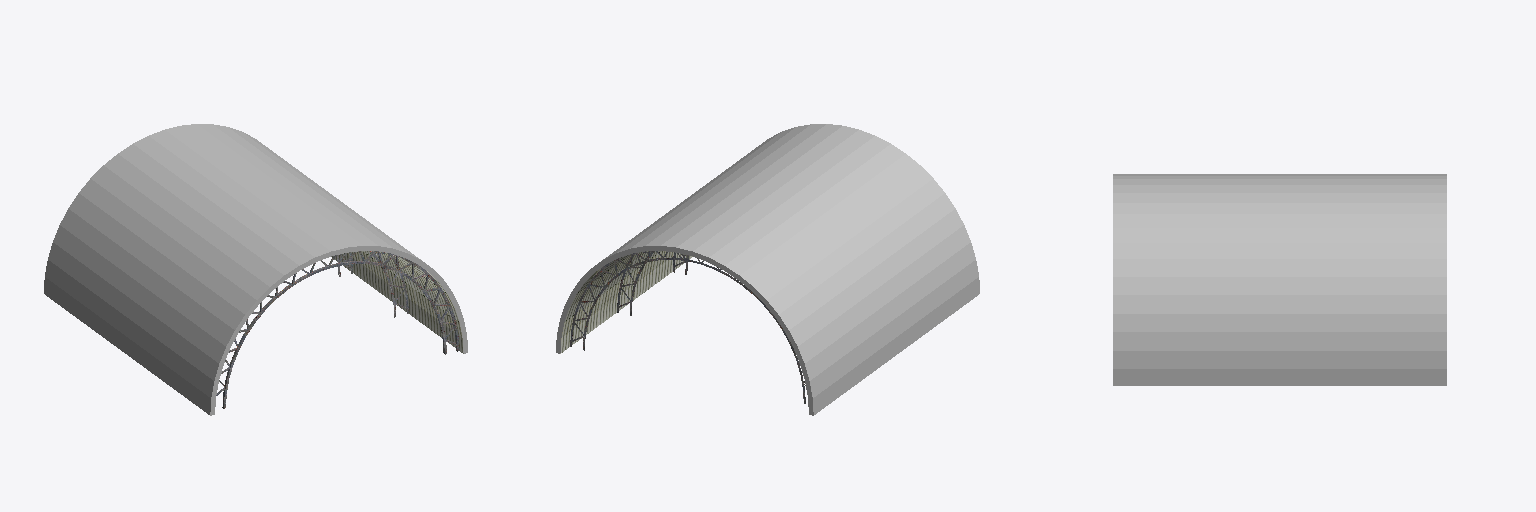
3 views of the same model, side by side, from view 1: azimuth 30°, elevation 25°; view 2: azimuth 150°, elevation 25°; view 3: azimuth 270°, elevation 25° (orthographic).
Parts seen in each view (by area): view 1: Shelter_simple.obj; view 2: Shelter_simple.obj; view 3: Shelter_simple.obj.
Boxes of the visible parts, box(x1,y1,x2,y2) form: Shelter_simple.obj: box(44, 124, 467, 415); Shelter_simple.obj: box(556, 124, 979, 415); Shelter_simple.obj: box(1113, 174, 1446, 385).
Bounding box in the file's own units: 54.11 × 27 × 60.5.
3 materials, 2 textured.